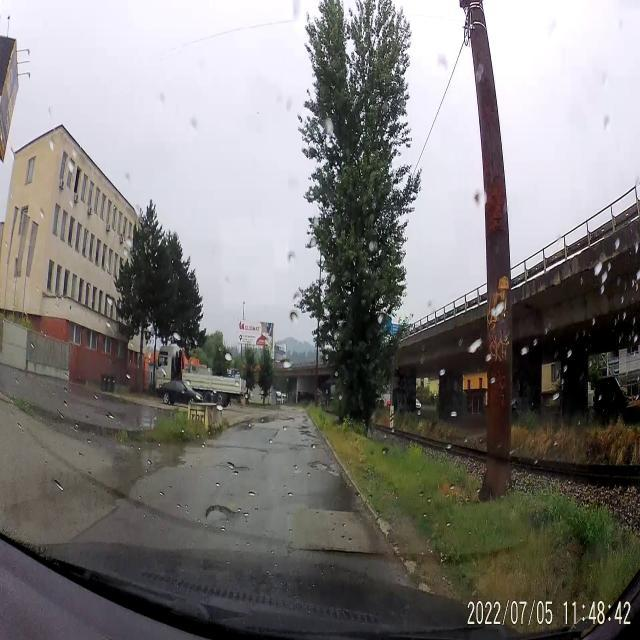Pothole: (206, 490, 244, 532), (306, 456, 342, 484), (227, 454, 249, 480), (298, 429, 316, 441), (288, 444, 310, 452), (274, 415, 296, 423), (302, 414, 310, 427)
